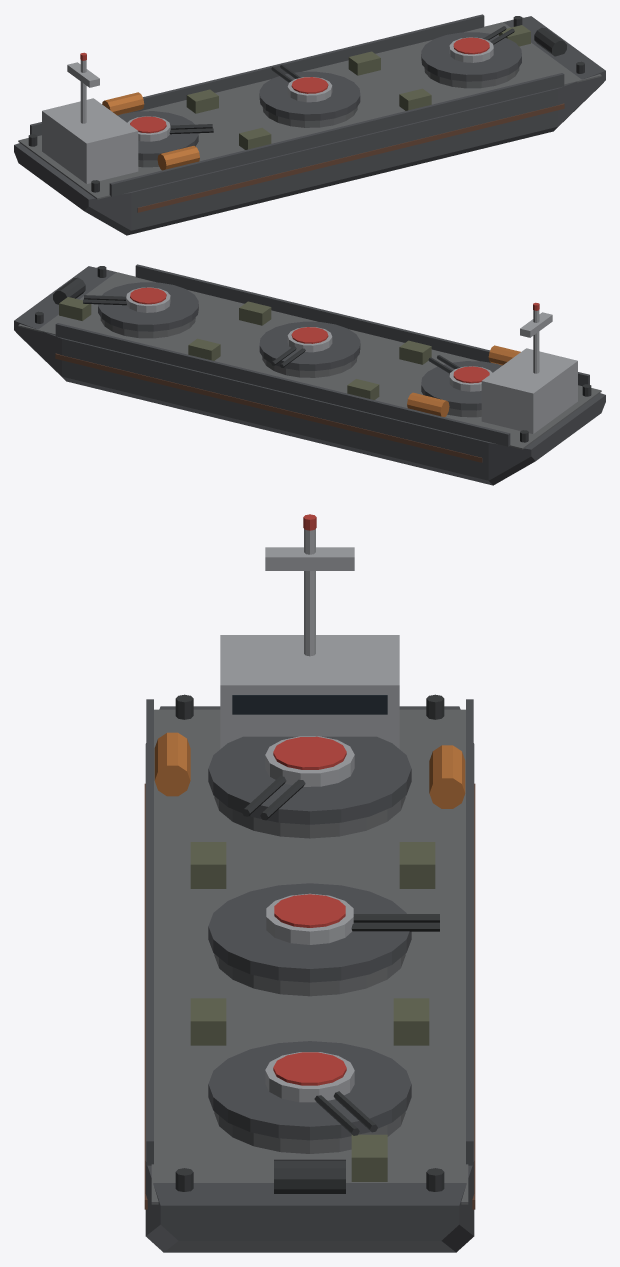
Rendered from fh_battle_e_ship_battery.glb.
The picture shows the model from 3 angles, top to bottom: view 1: azimuth 30°, elevation 25°; view 2: azimuth 150°, elevation 25°; view 3: azimuth 270°, elevation 25°; orthographic projection. The views are drawn at different scales.
Parts seen in each view (by area): view 1: body; view 2: body; view 3: body.
Part boxes in pixels (bbox=[...]): body: bbox=[14, 14, 605, 235]; body: bbox=[14, 264, 605, 485]; body: bbox=[144, 514, 475, 1252].
Size of the model in its own units: 1 by 0.2887 by 0.277.
